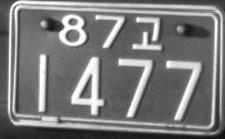1: (26, 53, 60, 112)
4: (70, 56, 105, 115)
7: (165, 59, 202, 121), (117, 57, 153, 118), (95, 14, 125, 48)
8: (57, 13, 88, 47)
고: (131, 15, 161, 50)
